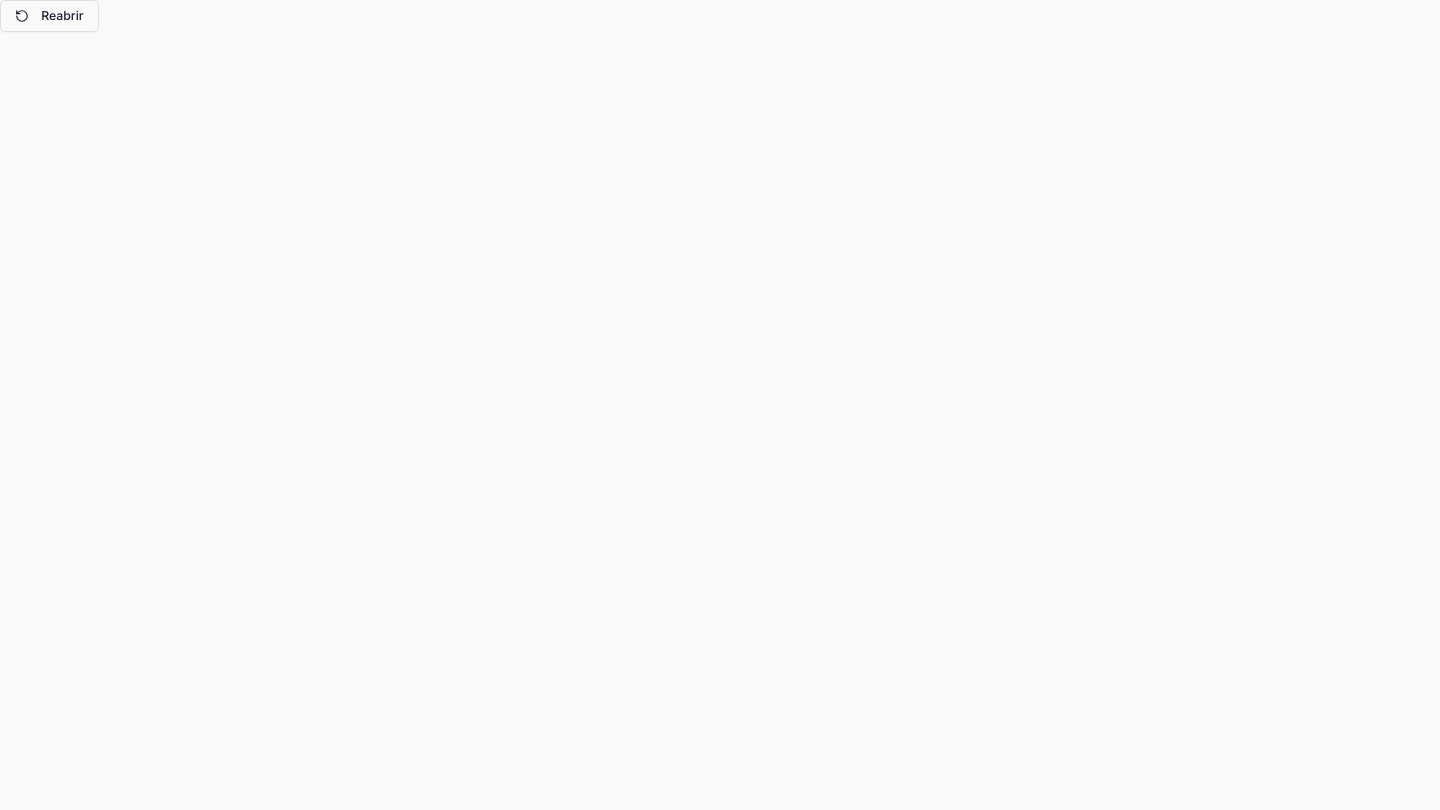
Test: ReabrirProcesso › reabre com o motivo e mostra a mensagem do servidor
Later steps or results of the test are not shown.
Click the button with test id "botao-reabrir-processo" at (49, 16), box [0, 0, 98, 32]
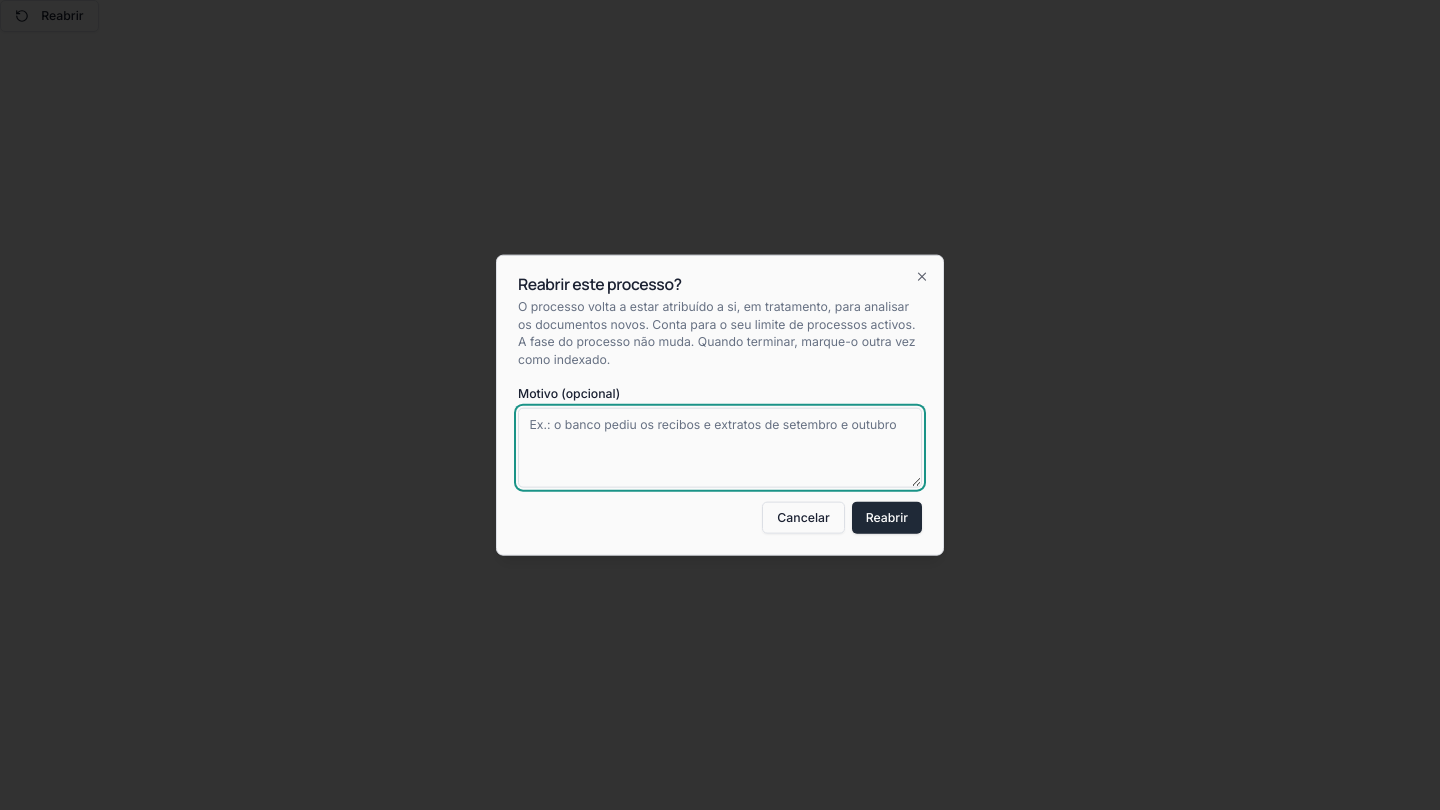
expect the text "atribuído a si, em tratamento" is shown: met, box [518, 299, 915, 331]
